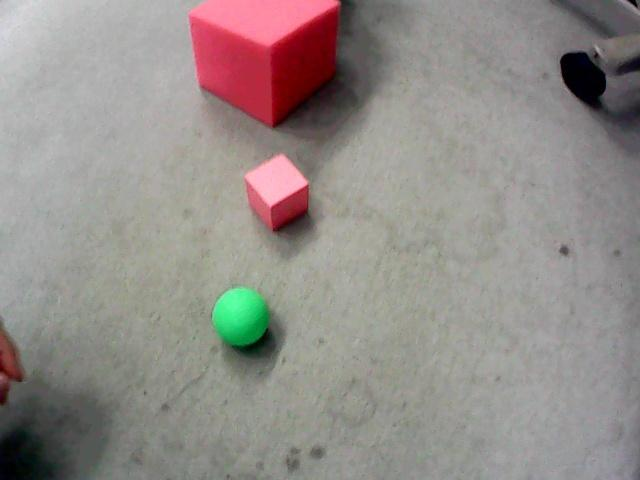red_block: (189, 0, 339, 126), (245, 154, 308, 230)
